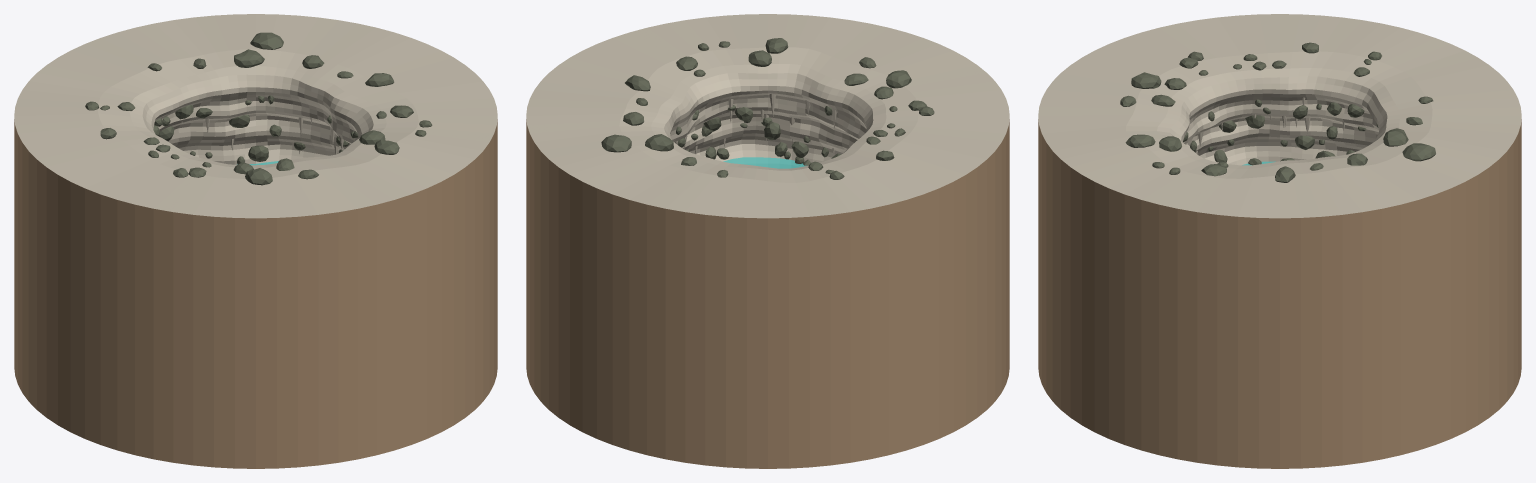
Rendered from cenote-prueba-7.fbx.
The picture shows the model from 3 angles, left to right: view 1: azimuth 30°, elevation 25°; view 2: azimuth 150°, elevation 25°; view 3: azimuth 270°, elevation 25°; orthographic projection.
Parts seen in each view (by area): view 1: Cenote_LOD0; view 2: Cenote_LOD0, Cenote_Agua_Cristalina; view 3: Cenote_LOD0.
Boxes of the visible parts, bbox=[...] form: Cenote_LOD0: bbox=[14, 14, 497, 468]; Cenote_LOD0: bbox=[526, 14, 1009, 468]; Cenote_Agua_Cristalina: bbox=[723, 157, 806, 168]; Cenote_LOD0: bbox=[1038, 14, 1521, 468].
Size of what is drawn, in the model's own units: 4800 by 2858 by 4800.
